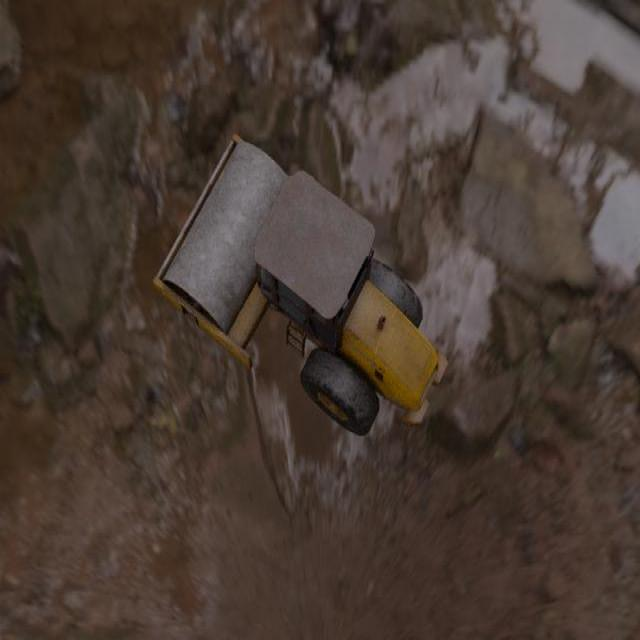Roller: (153, 133, 448, 436)
